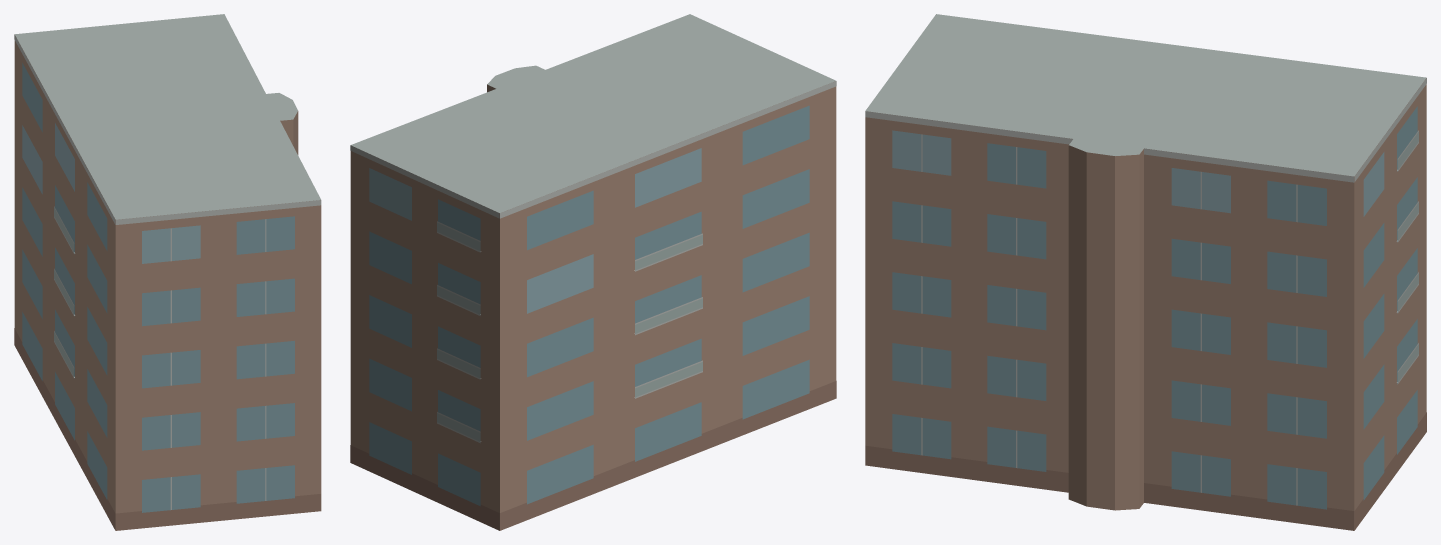
The model's file is survey-upis-32869377.glb.
3 renders of one model, left to right at view 1: azimuth 30°, elevation 25°; view 2: azimuth 150°, elevation 25°; view 3: azimuth 270°, elevation 25°, orthographic. The views are drawn at different scales.
Parts seen in each view (by area): view 1: survey-upis-32869377.tmp; view 2: survey-upis-32869377.tmp; view 3: survey-upis-32869377.tmp.
Boxes of the visible parts, x1,y1,x2,y2 form: survey-upis-32869377.tmp: [14, 14, 321, 530]; survey-upis-32869377.tmp: [350, 14, 836, 530]; survey-upis-32869377.tmp: [865, 14, 1426, 530].
Bounding box in the file's own units: 13.88 × 14.1 × 20.26.
